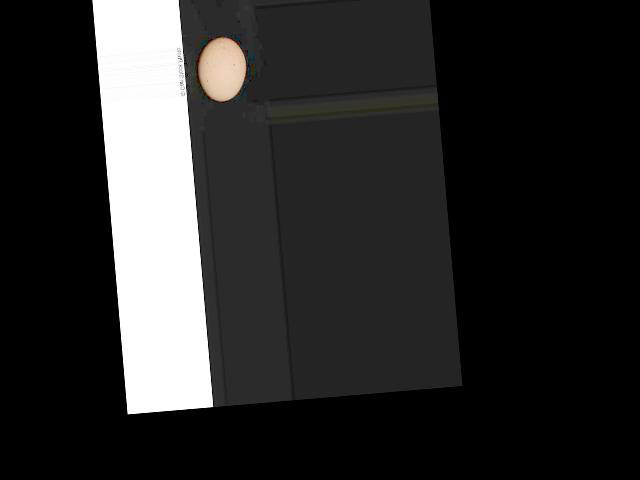egg: (195, 36, 247, 102)
